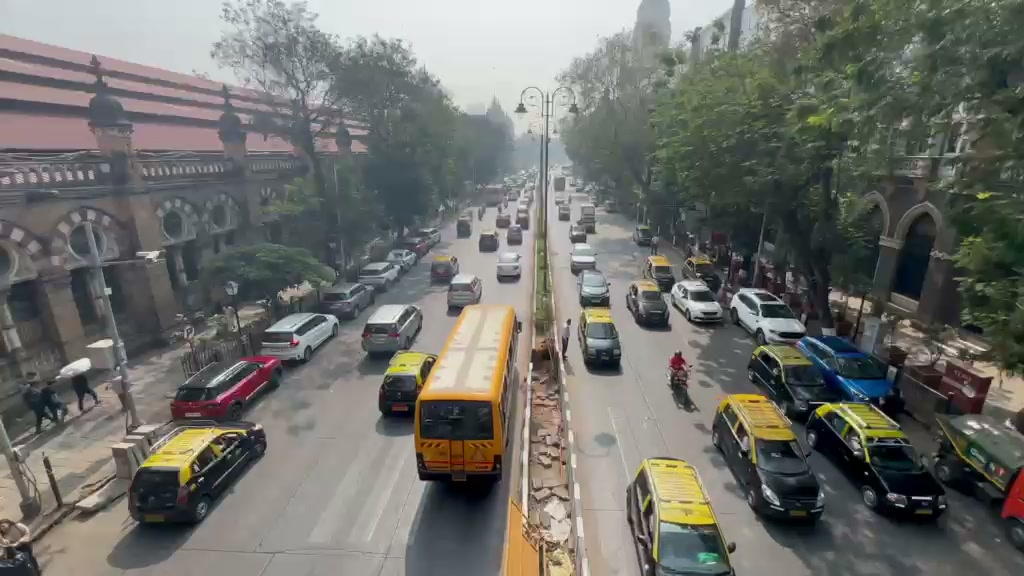bus: (412, 301, 518, 489)
car: (710, 393, 828, 525), (127, 423, 268, 525), (625, 457, 736, 575), (746, 339, 868, 422), (933, 412, 1024, 500), (797, 334, 901, 411), (170, 354, 283, 422), (257, 311, 339, 365), (731, 287, 807, 343), (377, 350, 436, 417), (359, 303, 424, 358), (578, 312, 623, 371), (669, 280, 724, 325), (318, 279, 375, 322), (625, 280, 670, 329), (999, 465, 1024, 552), (446, 273, 483, 315), (356, 258, 401, 291), (579, 270, 611, 305), (429, 253, 460, 284), (496, 249, 522, 282), (569, 246, 599, 273), (386, 248, 417, 269), (478, 231, 499, 253)
motorcycle: (671, 376, 700, 413)
pedestrian: (668, 349, 690, 385)
truck: (805, 401, 948, 521)
